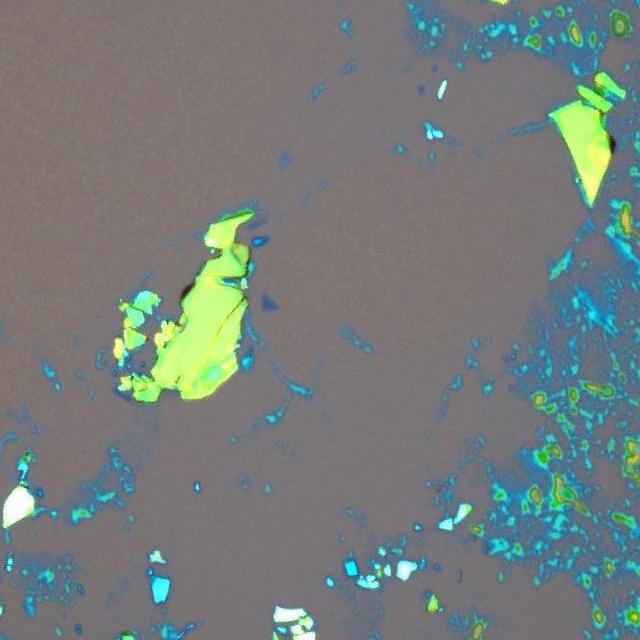monolayer-eWW4: (260, 290, 278, 312)
